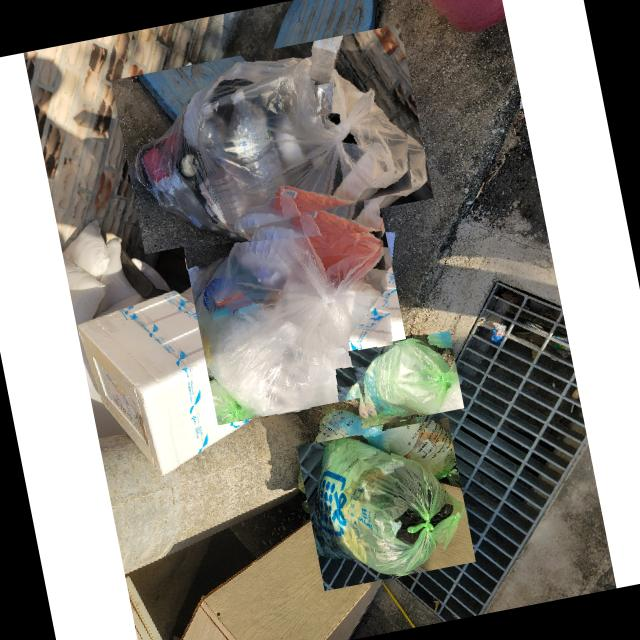general_trashbag: (314, 436, 464, 574), (298, 408, 385, 512), (363, 340, 459, 425)
other_trashbag: (128, 35, 412, 232), (190, 202, 384, 414)
